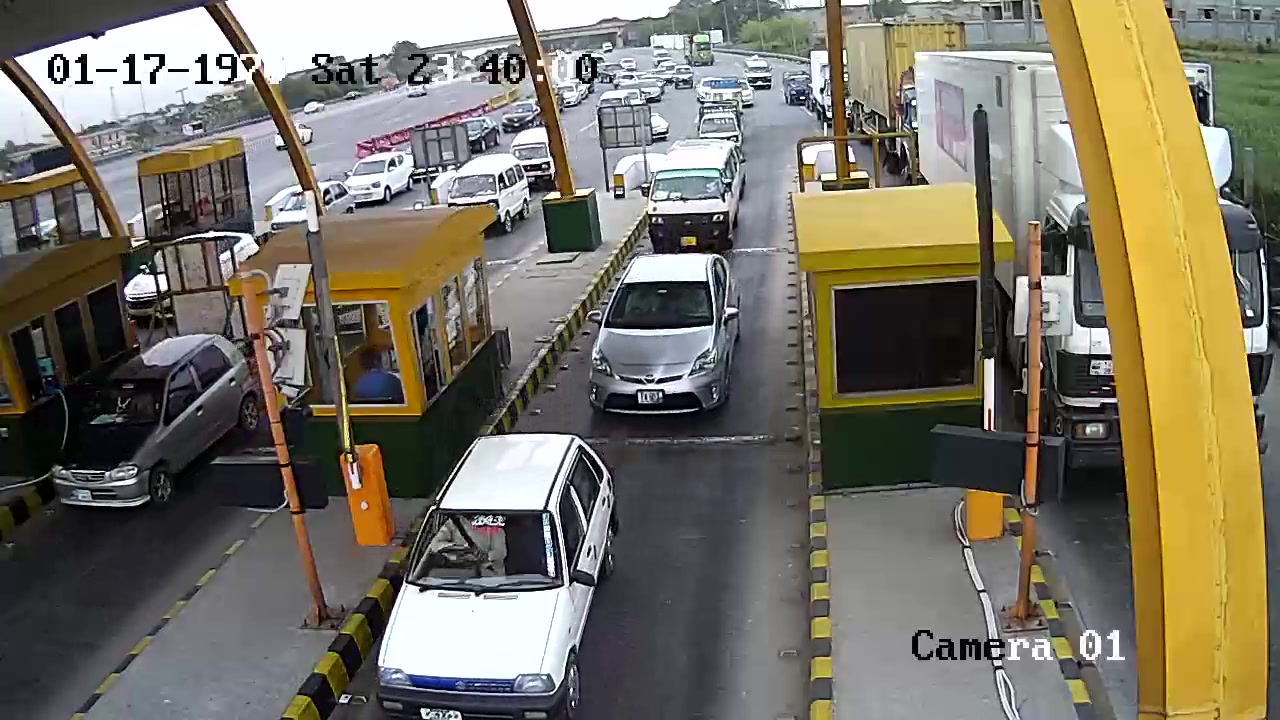F1: (368, 429, 638, 717), (558, 249, 760, 414)
